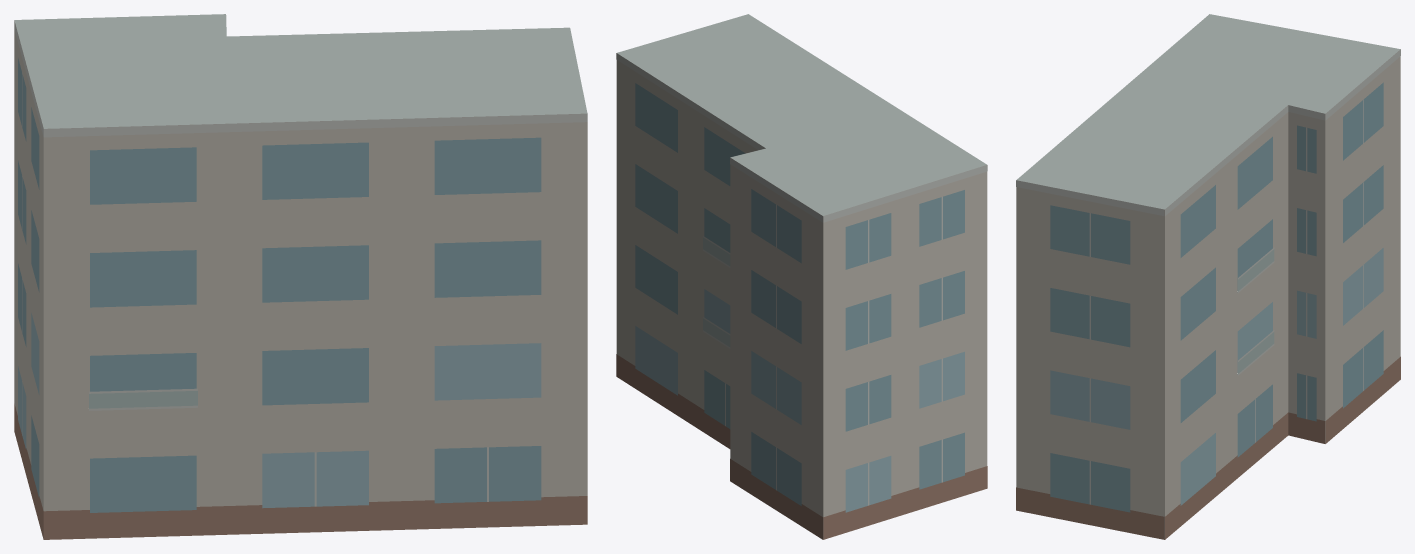
File: survey-upis-32882534.glb
The picture shows the model from 3 angles, left to right: view 1: azimuth 30°, elevation 25°; view 2: azimuth 150°, elevation 25°; view 3: azimuth 270°, elevation 25°; orthographic projection. The views are drawn at different scales.
Parts seen in each view (by area): view 1: survey-upis-32882534.tmp; view 2: survey-upis-32882534.tmp; view 3: survey-upis-32882534.tmp.
Boxes of the visible parts, bbox=[...] form: survey-upis-32882534.tmp: bbox=[14, 14, 587, 539]; survey-upis-32882534.tmp: bbox=[616, 14, 987, 539]; survey-upis-32882534.tmp: bbox=[1016, 14, 1400, 539].
Bounding box in the file's own units: 14.99 × 11.8 × 12.46.
